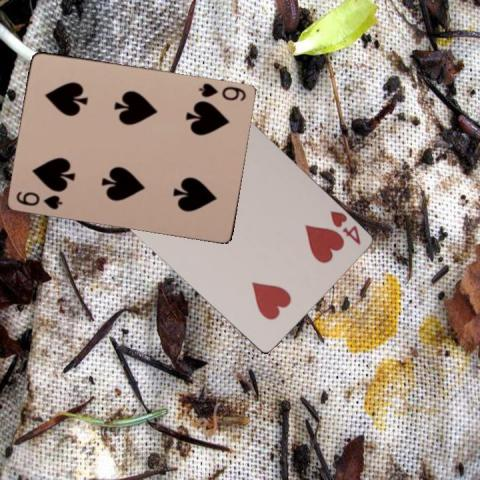4h: (327, 207, 362, 247)
6s: (196, 79, 248, 102), (13, 188, 65, 211)
